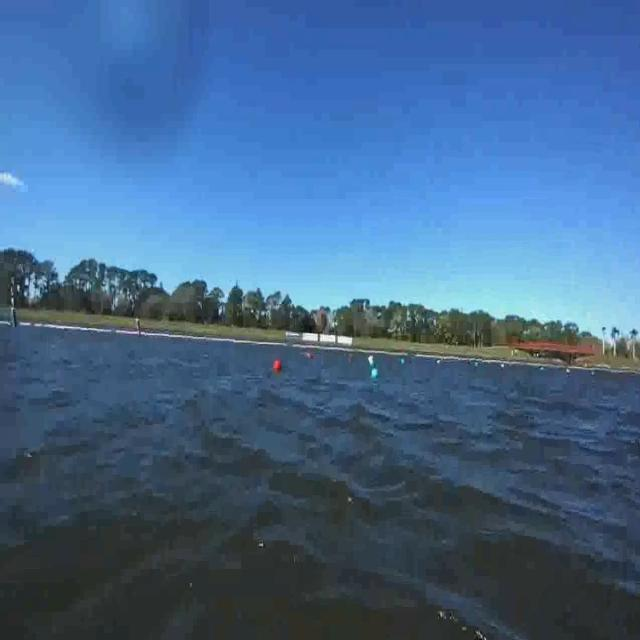green-buoy: (370, 366, 379, 383)
red-buoy: (274, 359, 283, 372)
